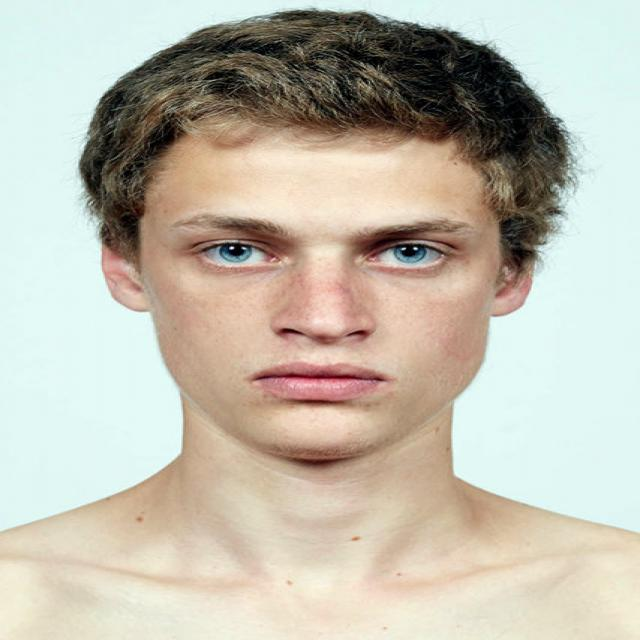earlobe: (100, 220, 151, 313), (490, 222, 538, 318)
